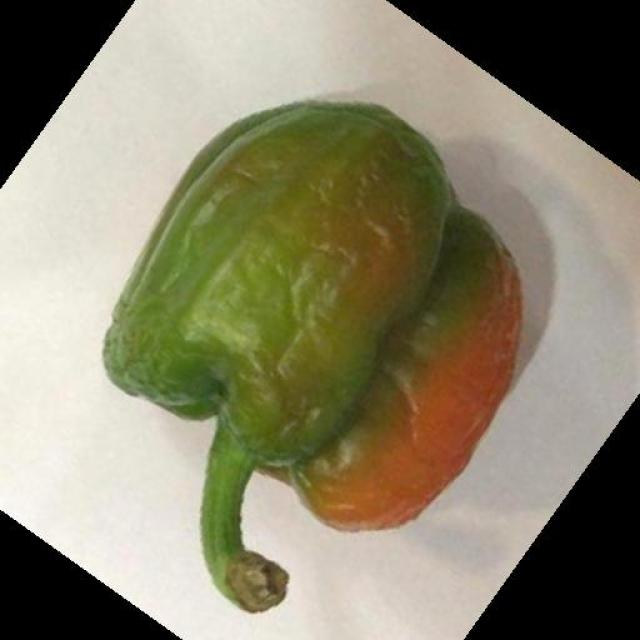Stale_Capsicum: (87, 93, 503, 571)
